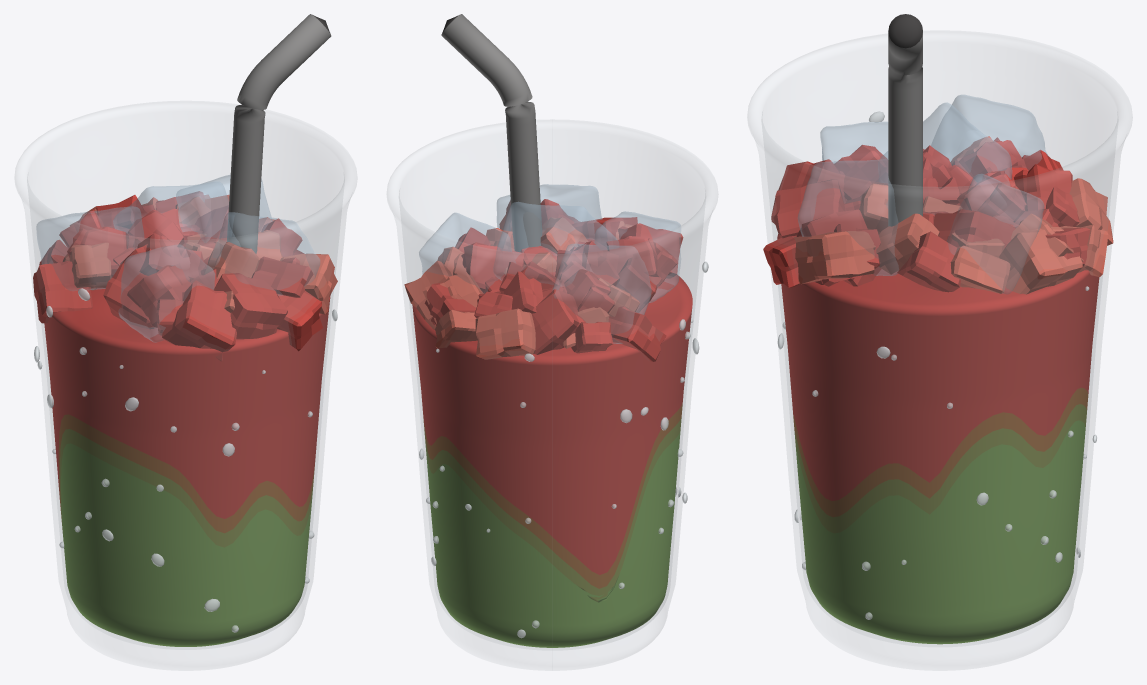
File: watermelon_drink.glb
The picture shows the model from 3 angles, left to right: view 1: azimuth 30°, elevation 25°; view 2: azimuth 150°, elevation 25°; view 3: azimuth 270°, elevation 25°; orthographic projection. The views are drawn at different scales.
Parts seen in each view (by area): view 1: Cup, Drink, IceMound, IceCubes, Straw, Drops; view 2: Cup, Drink, IceMound, IceCubes, Straw, Drops; view 3: Cup, Drink, IceMound, IceCubes, Straw, Drops.
Boxes of the visible parts, x1,y1,x2,y2 form: Cup: (15,101,356,670); Drink: (44,250,330,646); IceMound: (33,191,337,361); IceCubes: (36,175,319,342); Straw: (227,14,331,253); Drops: (34,288,337,632); Cup: (387,119,717,670); Drink: (412,275,692,647); IceMound: (404,199,683,361); IceCubes: (419,184,680,343); Straw: (441,14,542,251); Drops: (419,261,708,638); Cup: (747,31,1132,670); Drink: (777,234,1099,644); IceMound: (763,136,1113,294); IceCubes: (798,94,1048,293); Straw: (888,14,922,226); Drops: (777,111,1096,619).
Size of the model in its own units: 0.0844 by 0.1618 by 0.0844.
